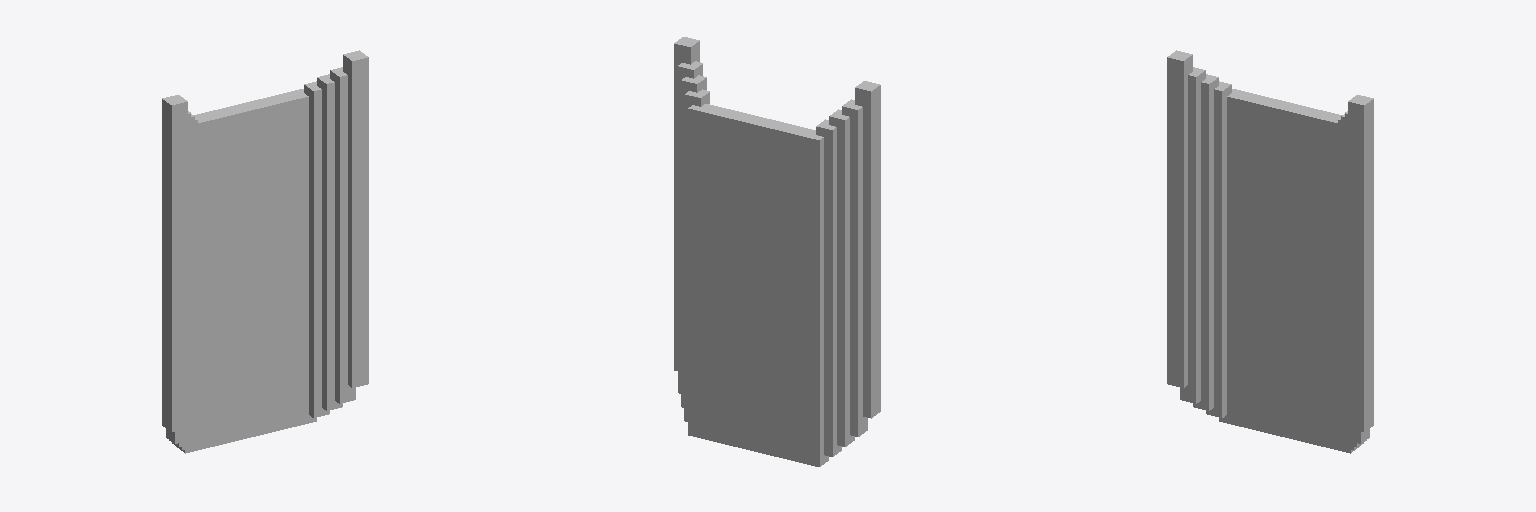
Rendered from Sheild.obj.
3 renders of one model, left to right at view 1: azimuth 30°, elevation 25°; view 2: azimuth 150°, elevation 25°; view 3: azimuth 330°, elevation 25°, orthographic.
Parts seen in each view (by area): view 1: cuboid; view 2: cuboid; view 3: cuboid.
Boxes of the visible parts, <box> form: cuboid: <box>162,50,368,453</box>; cuboid: <box>674,37,880,466</box>; cuboid: <box>1167,50,1373,453</box>.
Size of the model in its own units: 1.5 by 2.69 by 0.375.